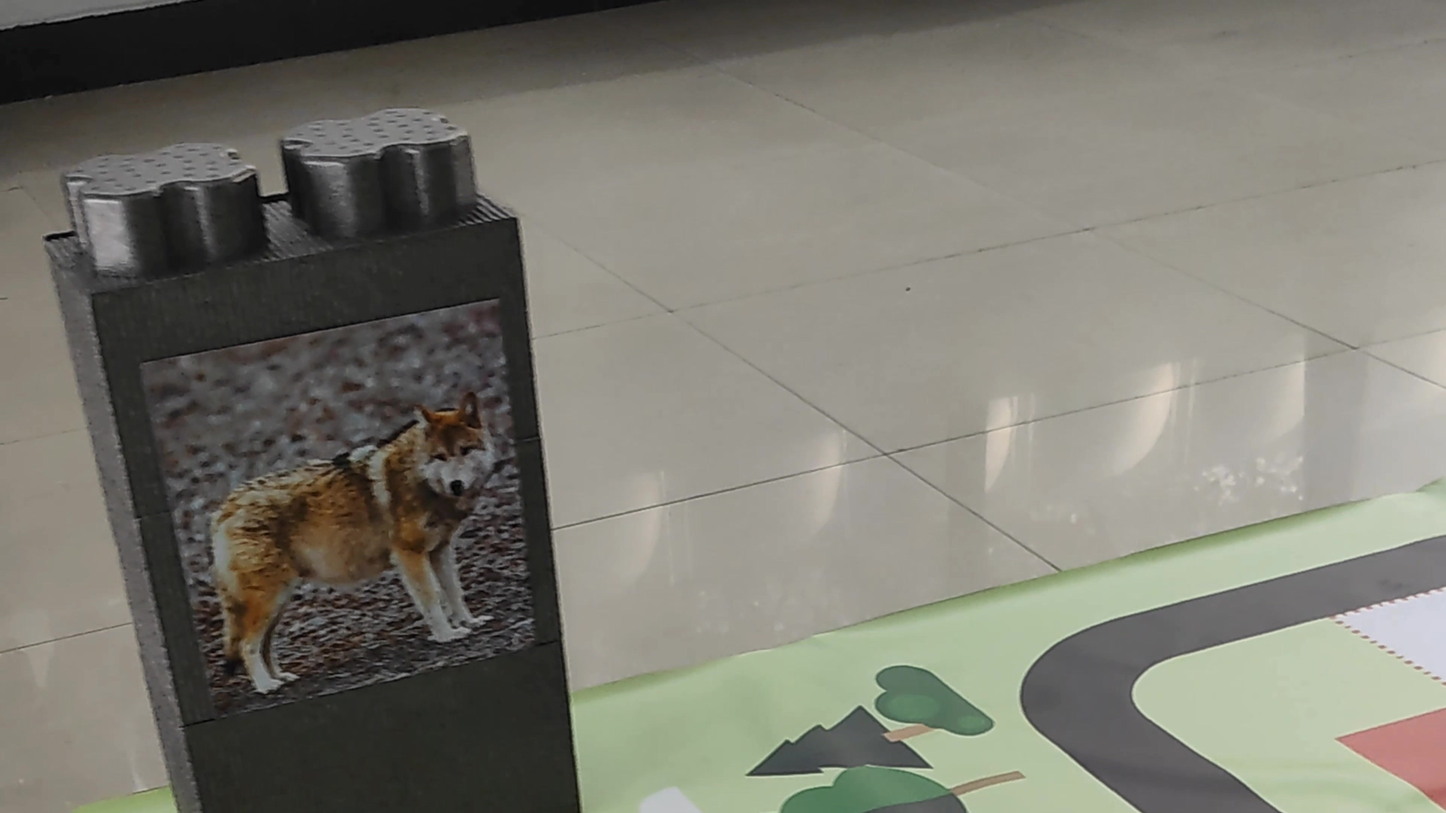wolf: (177, 338, 490, 676)
